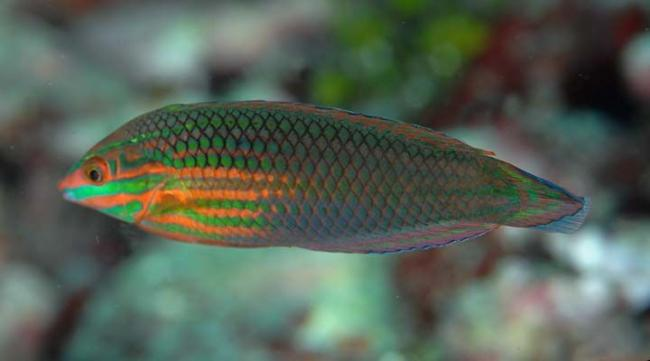fish: (57, 99, 592, 256)
